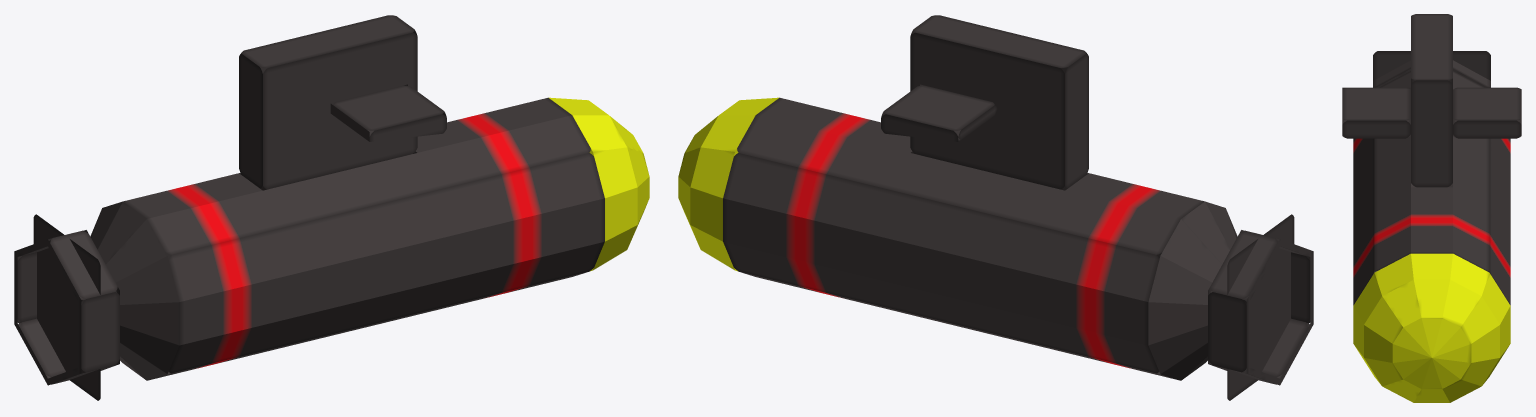
Rendered from Submarino.fbx.
The picture shows the model from 3 angles, left to right: view 1: azimuth 30°, elevation 25°; view 2: azimuth 150°, elevation 25°; view 3: azimuth 270°, elevation 25°; orthographic projection. The views are drawn at different scales.
Visible parts, largest first — view 1: body; view 2: body; view 3: body.
Boxes of the visible parts, x1=… form: body: x1=14, y1=15, x2=649, y2=400; body: x1=678, y1=15, x2=1313, y2=400; body: x1=1342, y1=14, x2=1521, y2=402.
Size of the model in its own units: 381 by 175 by 114.
Materials: 1 (1 with a texture image).
